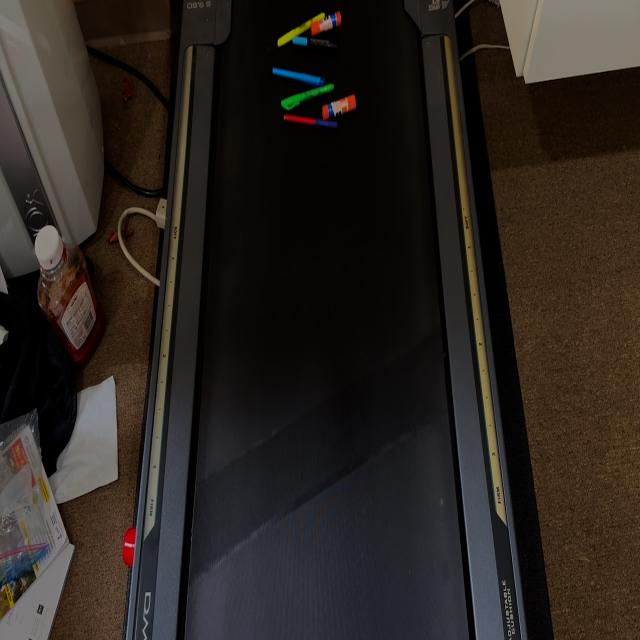Trash: (270, 62, 364, 136), (270, 4, 360, 56)
